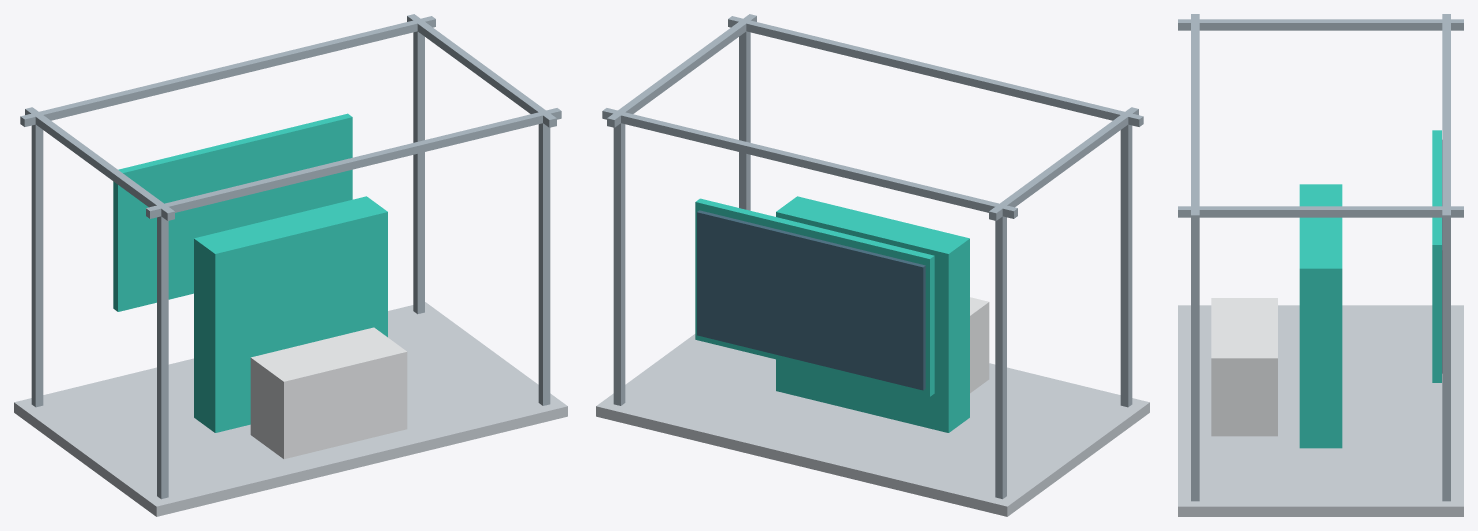
The picture shows the model from 3 angles, left to right: view 1: azimuth 30°, elevation 25°; view 2: azimuth 150°, elevation 25°; view 3: azimuth 270°, elevation 25°; orthographic projection.
Parts seen in each view (by area): view 1: Exhibition Booth Concept; view 2: Exhibition Booth Concept; view 3: Exhibition Booth Concept.
Part boxes in pixels (left/top/right/bottom): Exhibition Booth Concept: left=14, top=14, right=567, bottom=516; Exhibition Booth Concept: left=596, top=14, right=1149, bottom=516; Exhibition Booth Concept: left=1178, top=14, right=1463, bottom=516.
Size of the model in its own units: 5 by 3.49 by 3.
